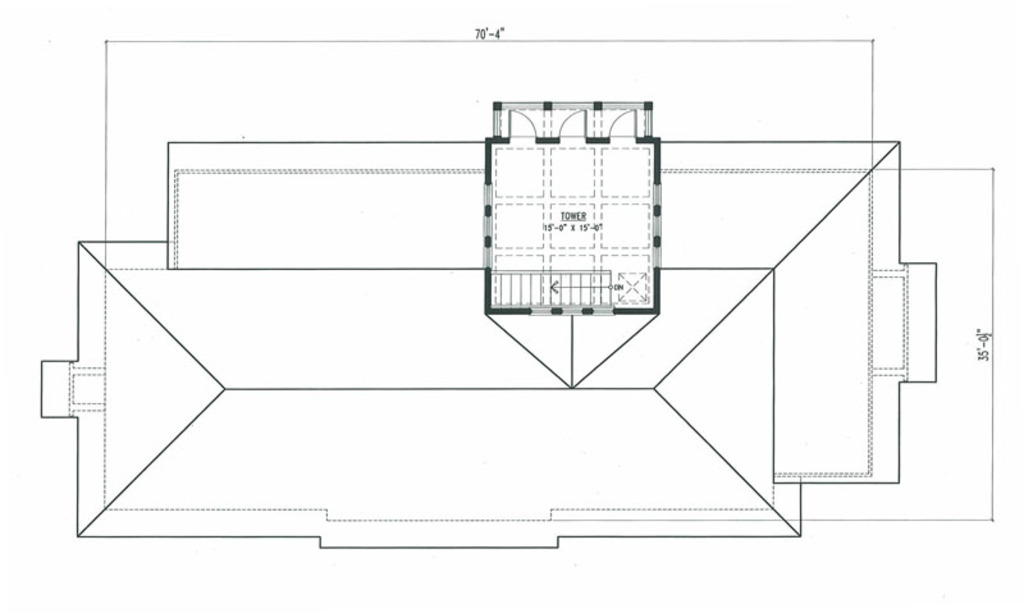door: (603, 109, 641, 143), (558, 110, 593, 144), (508, 108, 538, 139)
stairs: (486, 266, 625, 313)
windows: (649, 183, 669, 271), (482, 182, 497, 268)
